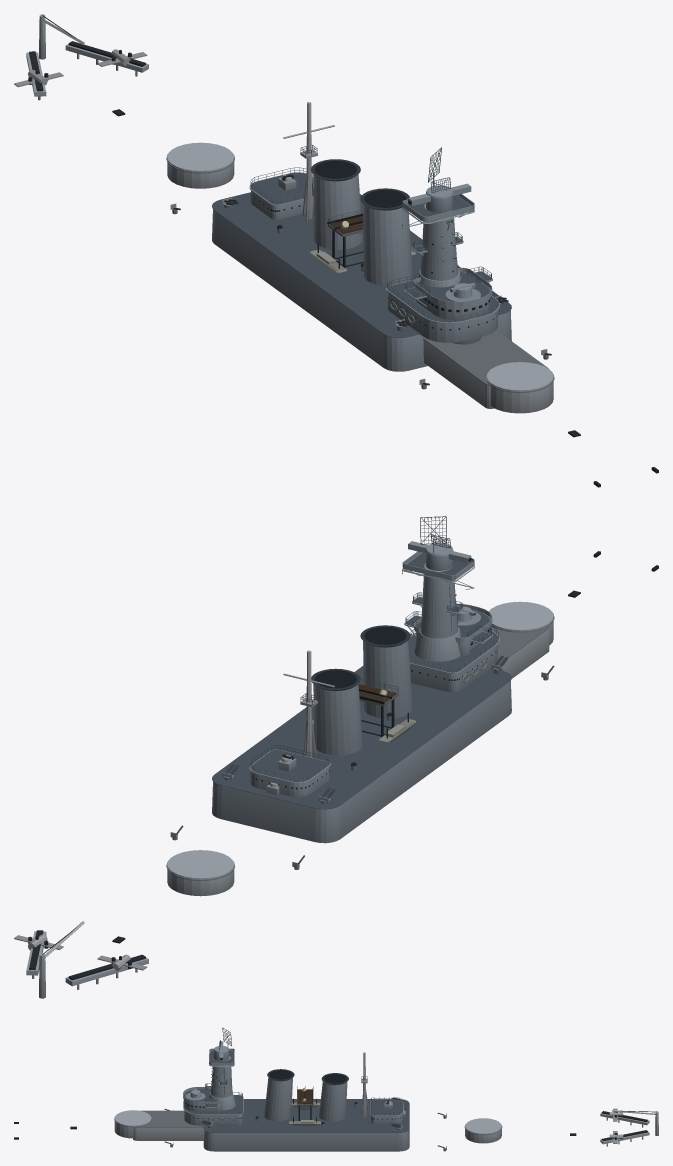
The model's file is us_bb_super.glb.
3 views of the same model, one above another, from view 1: azimuth 30°, elevation 25°; view 2: azimuth 150°, elevation 25°; view 3: azimuth 270°, elevation 25° (orthographic). The views are drawn at different scales.
Parts seen in each view (by area): view 1: super_us_bb; view 2: super_us_bb; view 3: super_us_bb.
Boxes of the visible parts, x1,y1,x2,y2 form: super_us_bb: (14, 14, 658, 487); super_us_bb: (14, 516, 658, 998); super_us_bb: (14, 1027, 658, 1151).
Size of the model in its own units: 25.43 by 36.43 by 201.
